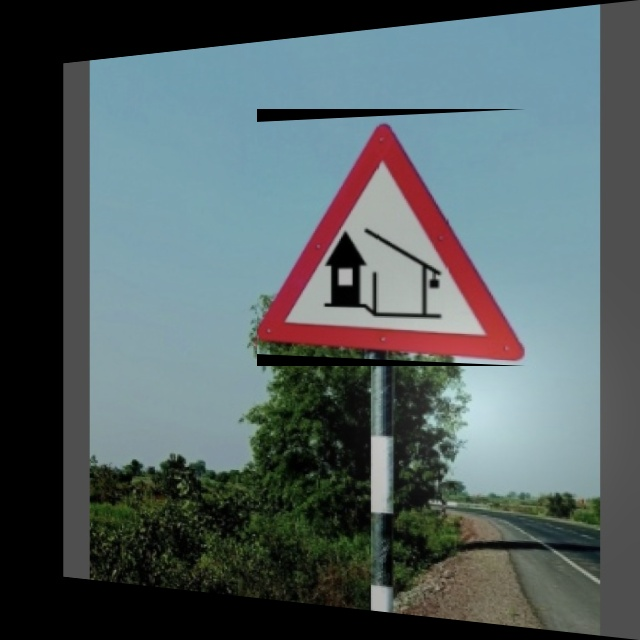Barrier_Ahead: (257, 109, 526, 366)
